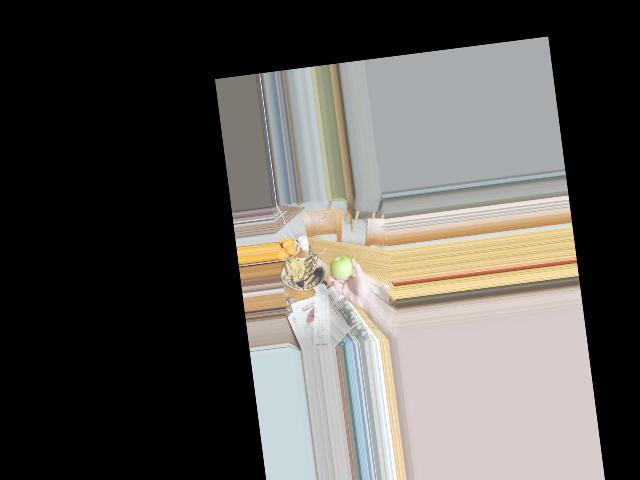apple: (328, 254, 354, 279)
